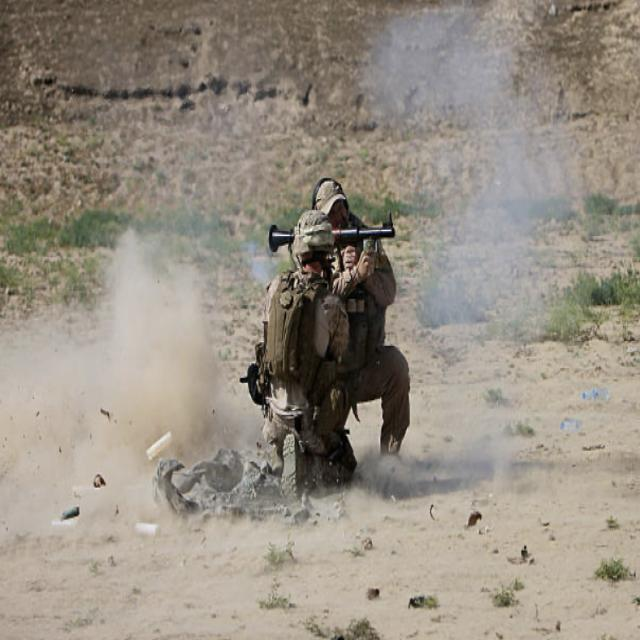bazooka: (263, 221, 403, 257)
